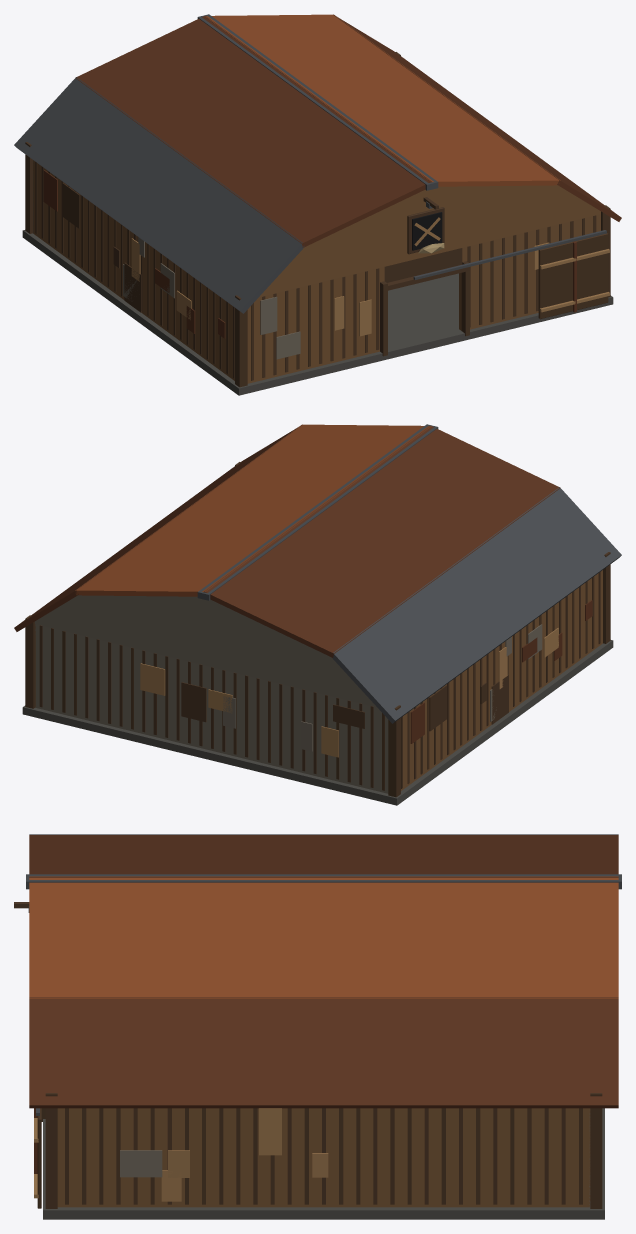
File: lmk_farm_barn.fbx
3 renders of one model, top to bottom at view 1: azimuth 30°, elevation 25°; view 2: azimuth 150°, elevation 25°; view 3: azimuth 270°, elevation 25°, orthographic. The views are drawn at different scales.
Parts seen in each view (by area): view 1: lmk_farm_barn; view 2: lmk_farm_barn; view 3: lmk_farm_barn.
Boxes of the visible parts, x1=… form: lmk_farm_barn: x1=14, y1=14, x2=621, y2=395; lmk_farm_barn: x1=14, y1=424, x2=621, y2=805; lmk_farm_barn: x1=14, y1=834, x2=621, y2=1219.
Bounding box in the file's own units: 16.7 × 7.21 × 17.75.
